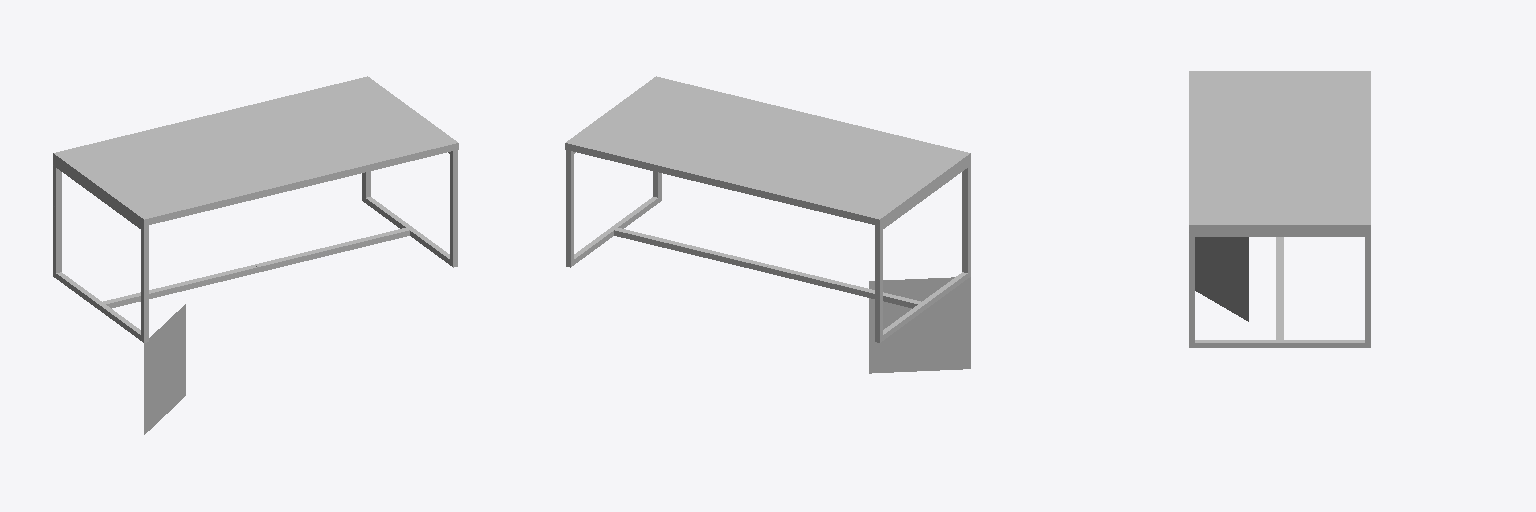
File: O&C_COFFEE TABLE_1200x600x450.obj
3 renders of one model, left to right at view 1: azimuth 30°, elevation 25°; view 2: azimuth 150°, elevation 25°; view 3: azimuth 270°, elevation 25°, orthographic.
Visible parts, largest first — view 1: ct1_2_001, F_RENDER_DESIGNS_001, ctleg_002, ctleg_001, Component_1_004, Component_1_003, Component_1_001; view 2: ct1_2_001, F_RENDER_DESIGNS_001, ctleg_002, ctleg_001, Component_1_003, Component_1_004, Component_1_002; view 3: ct1_2_001, F_RENDER_DESIGNS_001, ctleg_001, Component_1_002, Component_1_001.
Part boxes in pixels (x1,y1,x2,y2): ct1_2_001: (53, 76, 458, 225); F_RENDER_DESIGNS_001: (144, 304, 185, 434); ctleg_002: (56, 162, 257, 340); ctleg_001: (255, 152, 449, 272); Component_1_004: (53, 160, 61, 277); Component_1_003: (141, 225, 148, 342); Component_1_001: (450, 150, 457, 267); ct1_2_001: (565, 76, 970, 225); F_RENDER_DESIGNS_001: (869, 277, 970, 373); ctleg_002: (766, 162, 967, 340); ctleg_001: (574, 152, 768, 272); Component_1_003: (962, 160, 970, 277); Component_1_004: (875, 225, 882, 342); Component_1_002: (566, 150, 573, 267); ct1_2_001: (1189, 71, 1370, 231); F_RENDER_DESIGNS_001: (1195, 237, 1248, 321); ctleg_001: (1195, 232, 1364, 347); Component_1_002: (1365, 232, 1370, 347); Component_1_001: (1189, 232, 1194, 347).
Bounding box in the file's own units: 47.24 × 30.99 × 23.62.